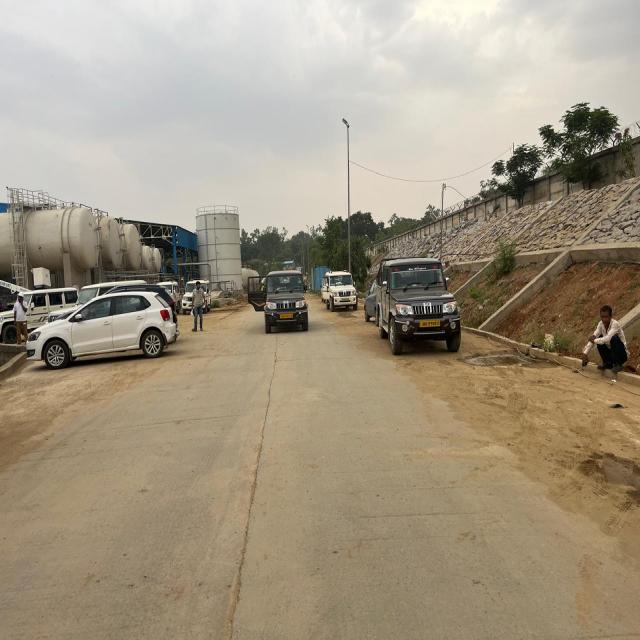car: (23, 291, 180, 371), (373, 256, 468, 362), (242, 261, 312, 345), (0, 283, 78, 338), (321, 268, 359, 316), (181, 280, 212, 318), (364, 275, 379, 329)
